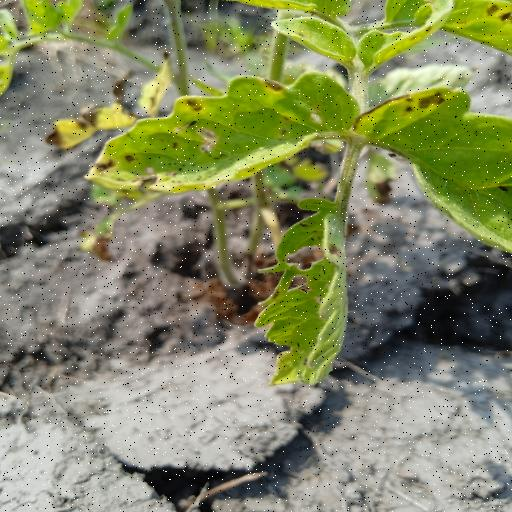Tomato_Brown_Spots: (84, 65, 362, 200), (355, 84, 512, 255), (245, 190, 369, 389)
